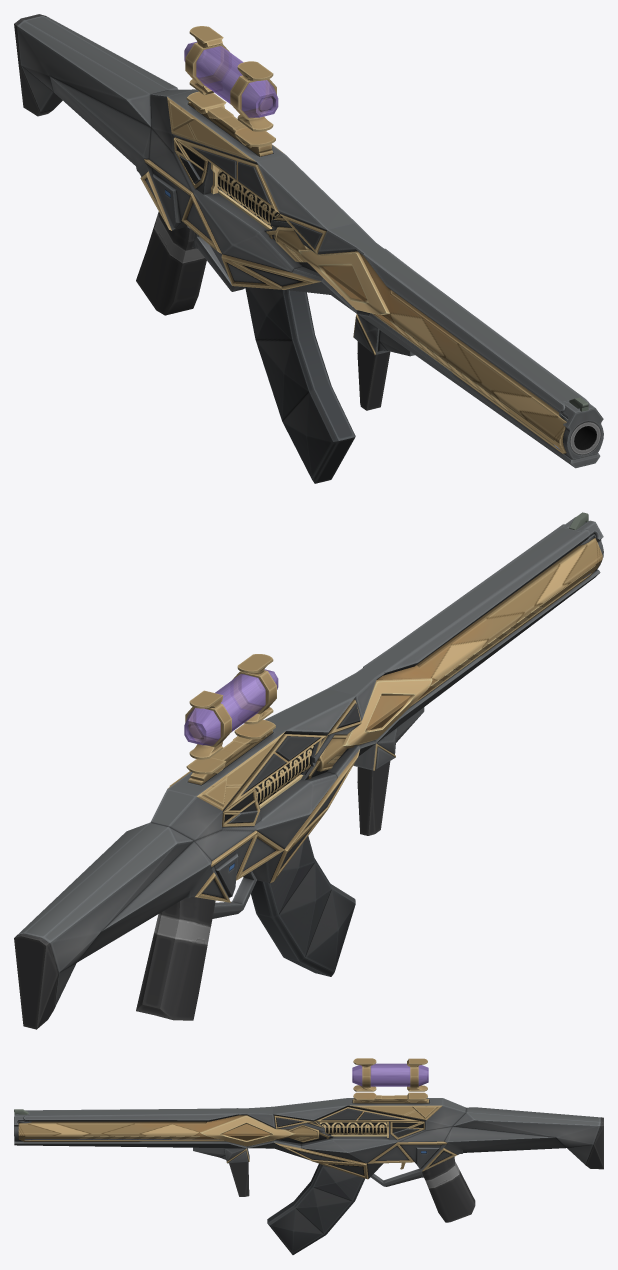
The model's file is raw.glb.
3 renders of one model, top to bottom at view 1: azimuth 30°, elevation 25°; view 2: azimuth 150°, elevation 25°; view 3: azimuth 270°, elevation 25°, orthographic. The views are drawn at different scales.
Parts seen in each view (by area): view 1: cw_AR_SSR_Cla_S003_WL_lod0, cw_AR_SSR_Cla_S003_Sight_WL_lod0, cw_AR_SSR_Cla_S003_Grip_WL_lod0; view 2: cw_AR_SSR_Cla_S003_WL_lod0, cw_AR_SSR_Cla_S003_Sight_WL_lod0, cw_AR_SSR_Cla_S003_Grip_WL_lod0; view 3: cw_AR_SSR_Cla_S003_WL_lod0, cw_AR_SSR_Cla_S003_Sight_WL_lod0, cw_AR_SSR_Cla_S003_Grip_WL_lod0.
Part boxes in pixels (bbox=[...]): cw_AR_SSR_Cla_S003_WL_lod0: bbox=[14, 14, 603, 483]; cw_AR_SSR_Cla_S003_Sight_WL_lod0: bbox=[184, 26, 278, 146]; cw_AR_SSR_Cla_S003_Grip_WL_lod0: bbox=[353, 314, 414, 410]; cw_AR_SSR_Cla_S003_WL_lod0: bbox=[14, 512, 603, 1029]; cw_AR_SSR_Cla_S003_Sight_WL_lod0: bbox=[184, 654, 278, 774]; cw_AR_SSR_Cla_S003_Grip_WL_lod0: bbox=[353, 707, 424, 835]; cw_AR_SSR_Cla_S003_WL_lod0: bbox=[14, 1095, 603, 1254]; cw_AR_SSR_Cla_S003_Sight_WL_lod0: bbox=[352, 1058, 428, 1102]; cw_AR_SSR_Cla_S003_Grip_WL_lod0: bbox=[193, 1147, 249, 1196].
Bounding box in the file's own units: 0.0607 × 0.2676 × 0.7441.
Materials: 2 (2 with a texture image).
